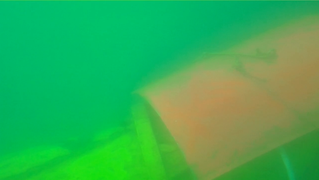leak: (129, 13, 319, 180)
pipe: (1, 101, 193, 180), (214, 127, 319, 179)
